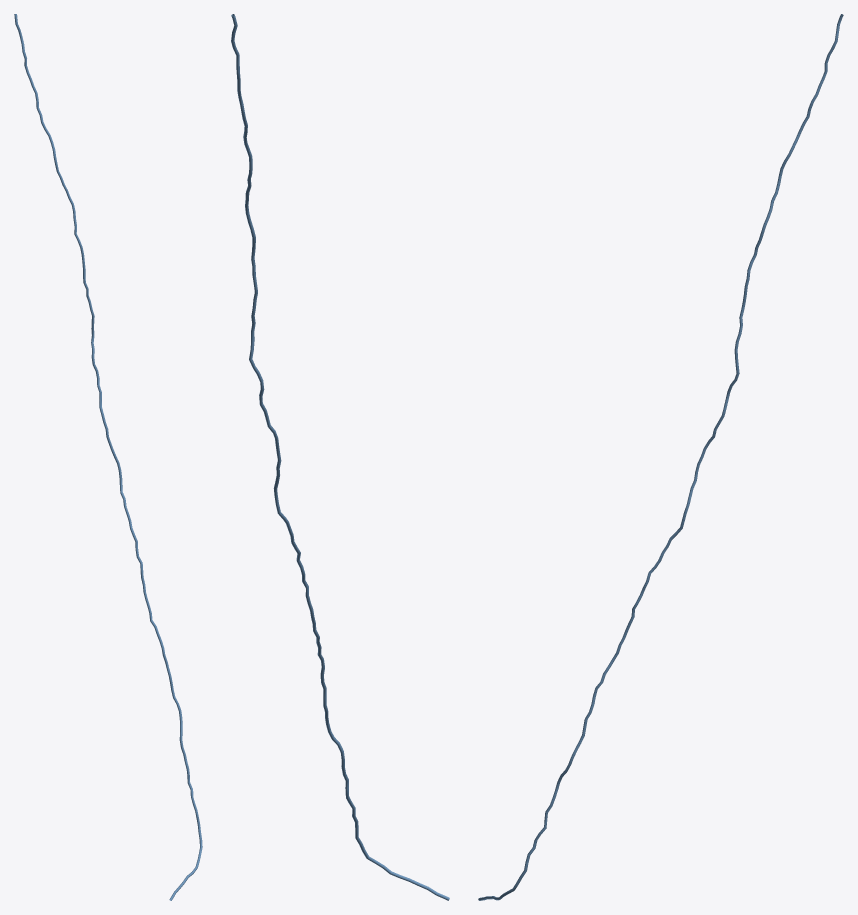
Rendered from sweep395.fbx.
3 renders of one model, left to right at view 1: azimuth 30°, elevation 25°; view 2: azimuth 150°, elevation 25°; view 3: azimuth 270°, elevation 25°, orthographic. The views are drawn at different scales.
Visible parts, largest first — view 1: sweep395; view 2: sweep395; view 3: sweep395.
Boxes of the visible parts, left/top/right/bottom form: sweep395: left=14, top=14, right=202, bottom=900; sweep395: left=231, top=14, right=449, bottom=900; sweep395: left=478, top=14, right=843, bottom=900.
Bounding box in the file's own units: 0.4456 × 6.36 × 2.37.
